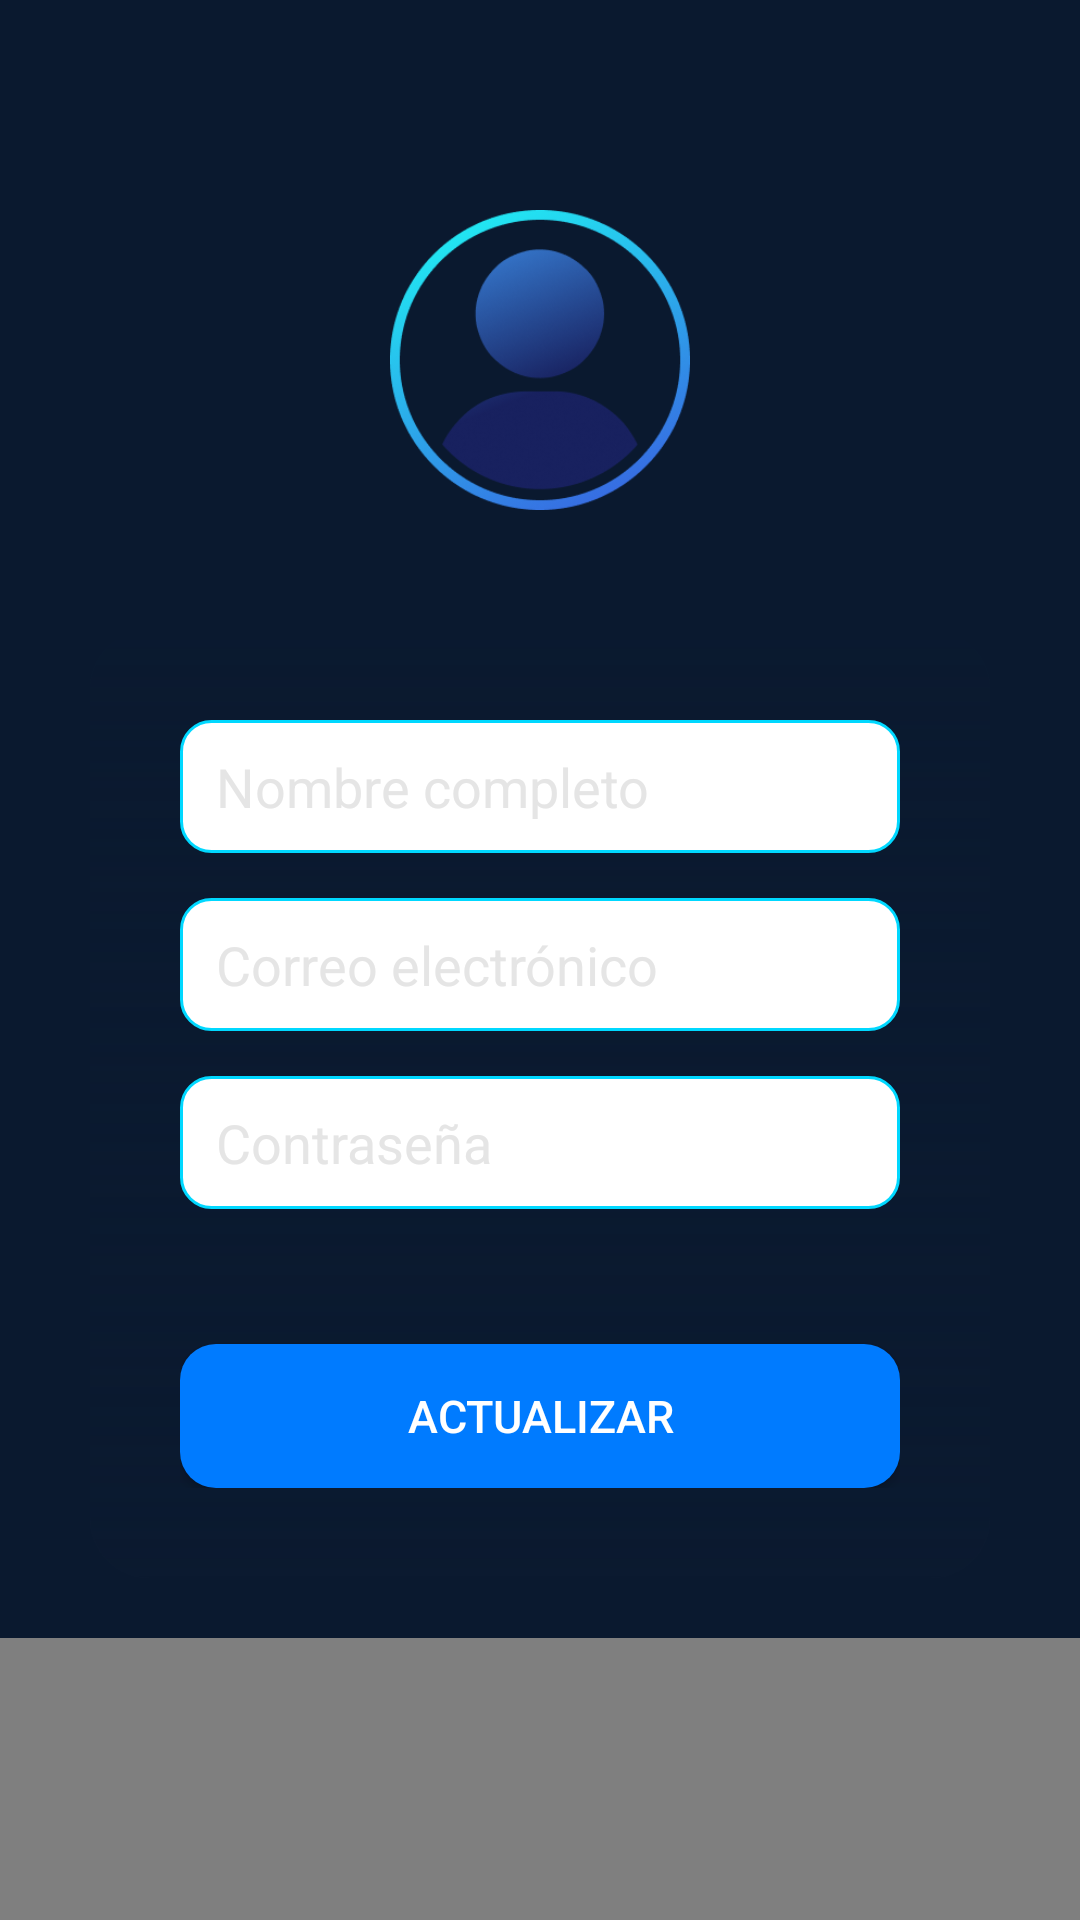

Point at icon controls on the screen. Image size 1080*1920, points as (x,y).
foto perfil: (540,360)
